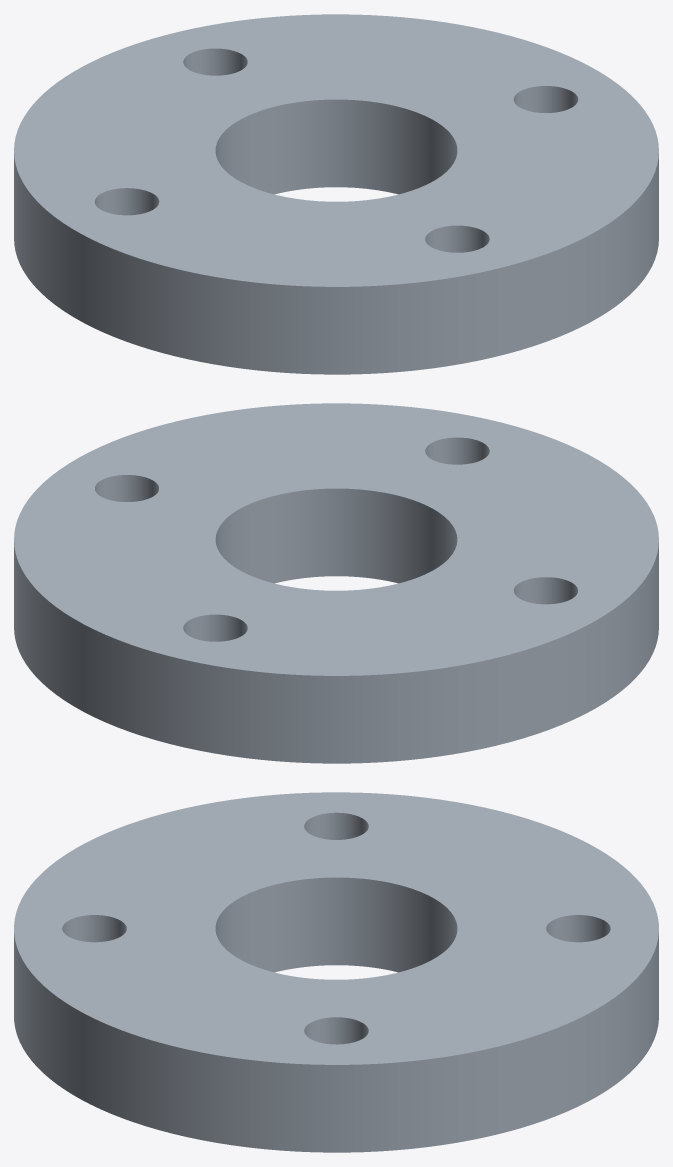
The model's file is Test_Flansch.glb.
3 views of the same model, one above another, from view 1: azimuth 30°, elevation 25°; view 2: azimuth 150°, elevation 25°; view 3: azimuth 270°, elevation 25° (orthographic).
Visible parts, largest first — view 1: Flansch; view 2: Flansch; view 3: Flansch.
Boxes of the visible parts, x1,y1,x2,y2 form: Flansch: (14, 14, 658, 374); Flansch: (14, 403, 658, 763); Flansch: (14, 792, 658, 1152).
Size of the model in its own units: 0.08 by 0.012 by 0.08.
